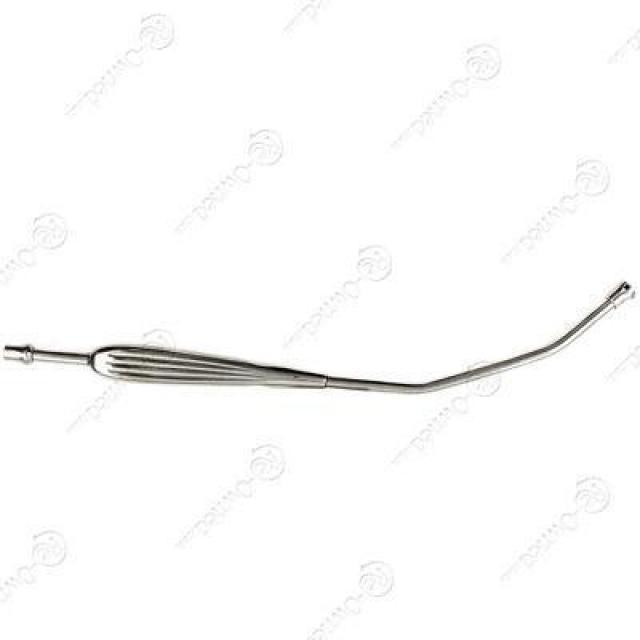Yankauer: (0, 274, 640, 401)
